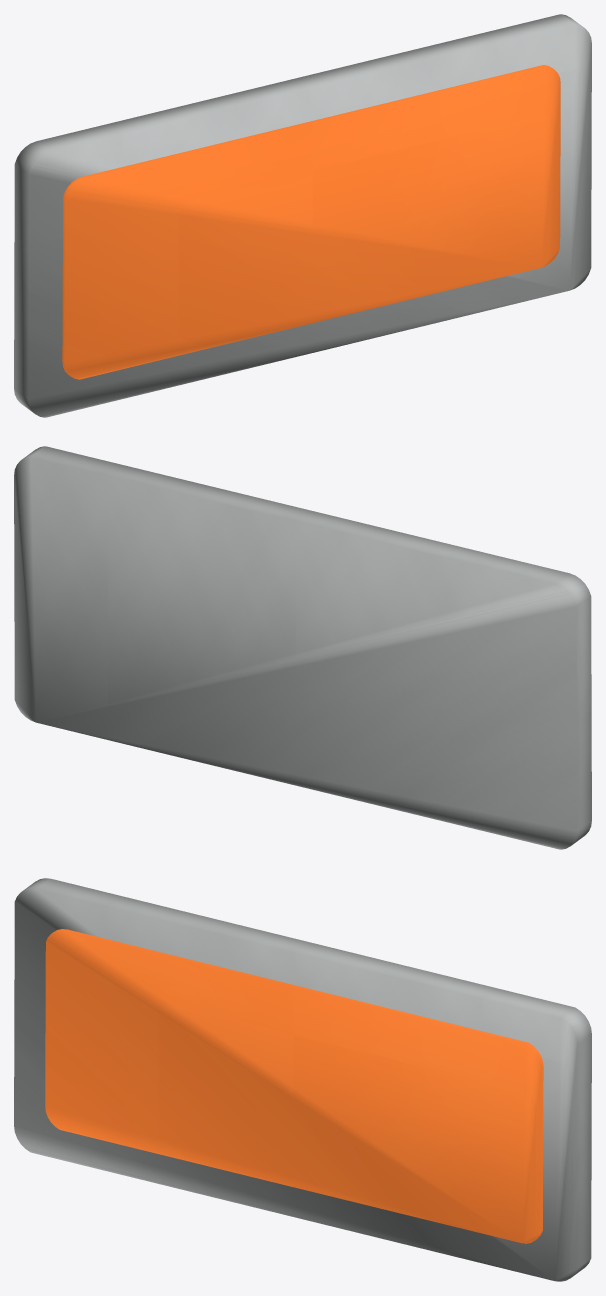
The model's file is LIGHT_CEILING_PANEL_001.glb.
The picture shows the model from 3 angles, top to bottom: view 1: azimuth 30°, elevation 25°; view 2: azimuth 150°, elevation 25°; view 3: azimuth 330°, elevation 25°; orthographic projection.
Parts seen in each view (by area): view 1: emissive_diffuser_001, light_panel_000; view 2: light_panel_000; view 3: emissive_diffuser_001, light_panel_000.
Boxes of the visible parts, x1=… form: emissive_diffuser_001: x1=62, y1=65, x2=560, y2=379; light_panel_000: x1=14, y1=14, x2=591, y2=417; light_panel_000: x1=14, y1=446, x2=591, y2=849; emissive_diffuser_001: x1=45, y1=929, x2=543, y2=1243; light_panel_000: x1=14, y1=878, x2=591, y2=1281.
Size of the model in its own units: 1 by 0.45 by 0.053.
Materials: 2 (2 with a texture image).
